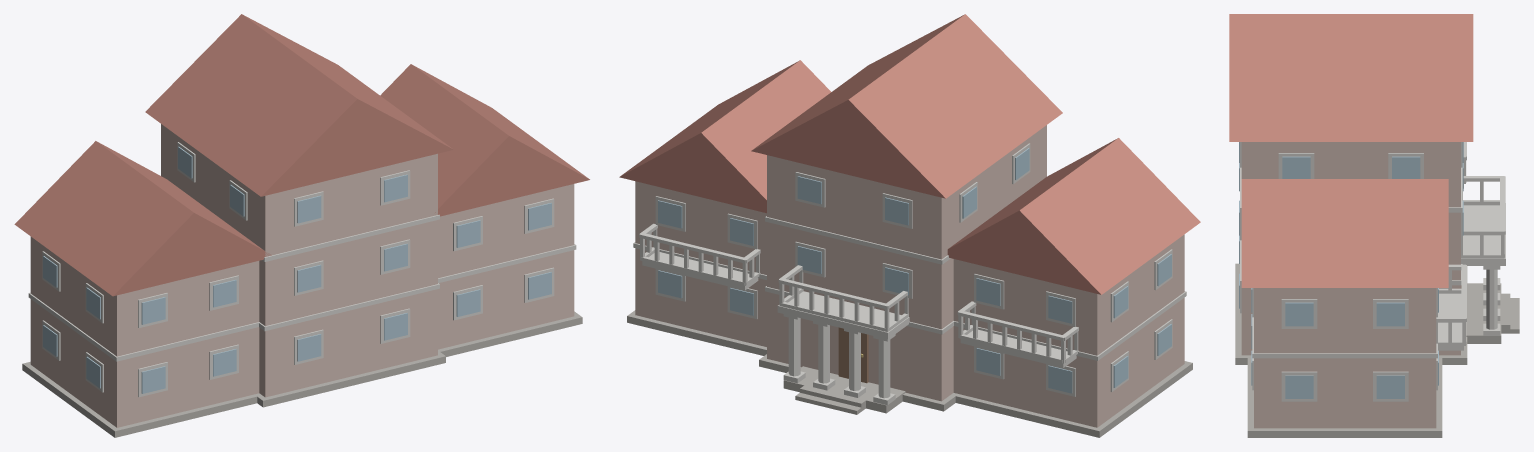
File: casa-n09-257c892b.glb
3 views of the same model, side by side, from view 1: azimuth 30°, elevation 25°; view 2: azimuth 150°, elevation 25°; view 3: azimuth 270°, elevation 25° (orthographic). The views are drawn at different scales.
Size of the model in its own units: 18.8 by 10.85 by 9.4.
